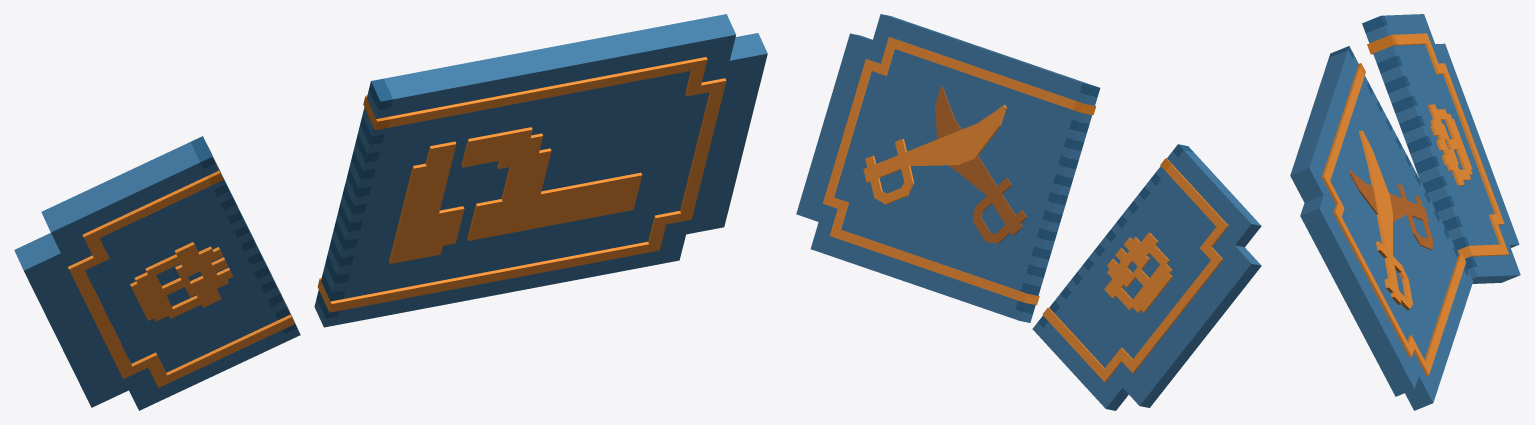
The picture shows the model from 3 angles, left to right: view 1: azimuth 30°, elevation 25°; view 2: azimuth 150°, elevation 25°; view 3: azimuth 270°, elevation 25°; orthographic projection. The views are drawn at different scales.
Visible parts, largest first — view 1: ticket_ship_ticket$$(2)-Local, ticket_ship_tab$$(2)-Local, icon$$(2)-Local, skull$$(1)-Local; view 2: ticket_ship_ticket$$(2)-Local, ticket_ship_tab$$(2)-Local, skull$$(1)-Local, icon$$(2)-Local, sword_left$$(2)-Local, sword_right$$(2)-Local, left_blade02$$(5)-Local; view 3: ticket_ship_ticket$$(2)-Local, ticket_ship_tab$$(2)-Local, skull$$(1)-Local, icon$$(2)-Local, sword_left$$(2)-Local, sword_right$$(2)-Local.
Part boxes in pixels (x1,y1,x2,y2): ticket_ship_ticket$$(2)-Local: (314, 14, 767, 327); ticket_ship_tab$$(2)-Local: (14, 136, 300, 410); icon$$(2)-Local: (317, 57, 726, 312); skull$$(1)-Local: (68, 147, 294, 387); ticket_ship_ticket$$(2)-Local: (796, 14, 1100, 322); ticket_ship_tab$$(2)-Local: (1032, 144, 1261, 410); skull$$(1)-Local: (1042, 158, 1228, 382); icon$$(2)-Local: (823, 37, 1095, 304); sword_left$$(2)-Local: (863, 117, 994, 204); sword_right$$(2)-Local: (937, 114, 1026, 243); left_blade02$$(5)-Local: (949, 164, 999, 201); ticket_ship_ticket$$(2)-Local: (1290, 46, 1473, 410); ticket_ship_tab$$(2)-Local: (1362, 14, 1520, 283); skull$$(1)-Local: (1367, 33, 1508, 258); icon$$(2)-Local: (1321, 63, 1465, 375); sword_left$$(2)-Local: (1368, 148, 1413, 310); sword_right$$(2)-Local: (1364, 184, 1433, 250).
Bounding box in the file's own units: 115 × 59.99 × 42.85.
18 materials, 18 textured.
